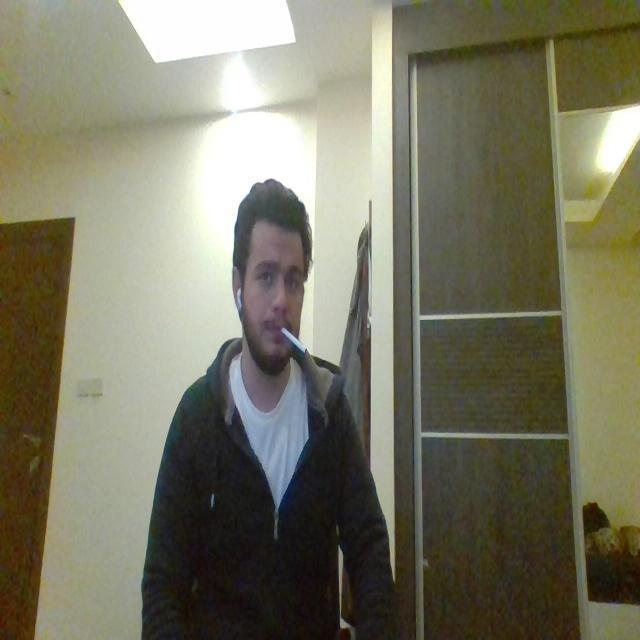smoking: (251, 299, 322, 368)
